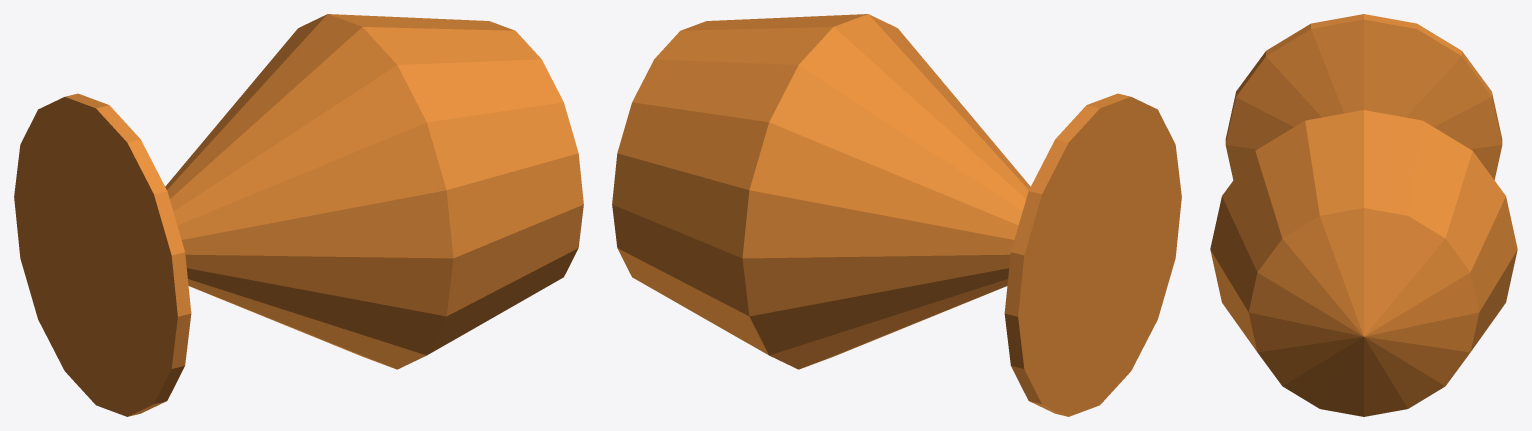
The model's file is bomb04.fbx.
3 renders of one model, left to right at view 1: azimuth 30°, elevation 25°; view 2: azimuth 150°, elevation 25°; view 3: azimuth 270°, elevation 25°, orthographic. The views are drawn at different scales.
Visible parts, largest first — view 1: Cylinder; view 2: Cylinder; view 3: Cylinder.
Part boxes in pixels (x1=…): Cylinder: x1=14, y1=14, x2=583, y2=416; Cylinder: x1=612, y1=14, x2=1181, y2=416; Cylinder: x1=1210, y1=14, x2=1517, y2=416.
Size of the model in its own units: 168 by 111 by 111.
